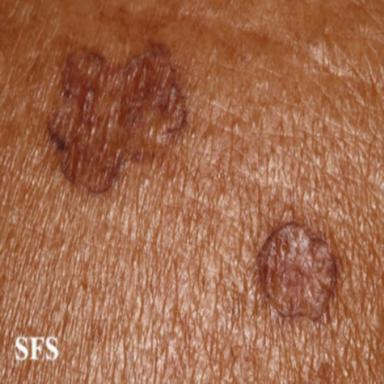Porokeratosis: (49, 41, 188, 192), (254, 204, 338, 322)
